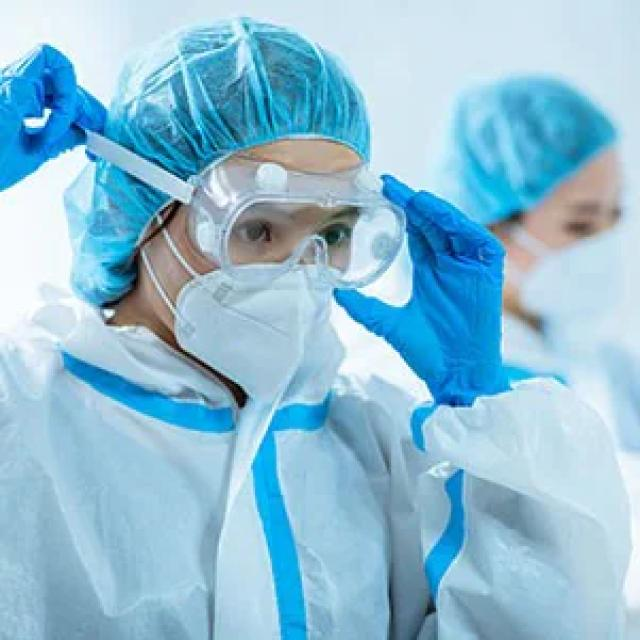goggles_on: (83, 120, 405, 290)
